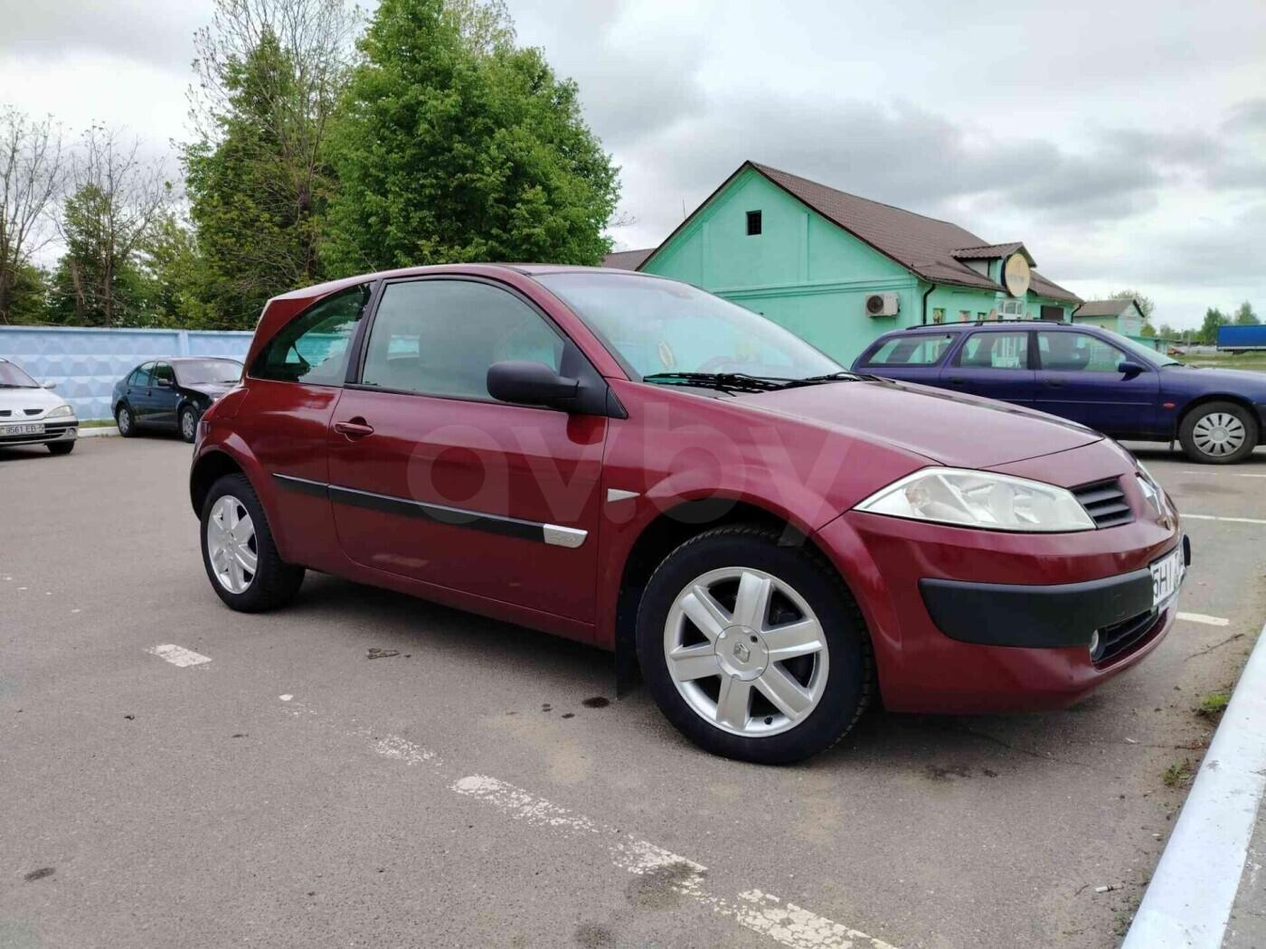Megane_2002-2006: (191, 261, 1196, 775)
